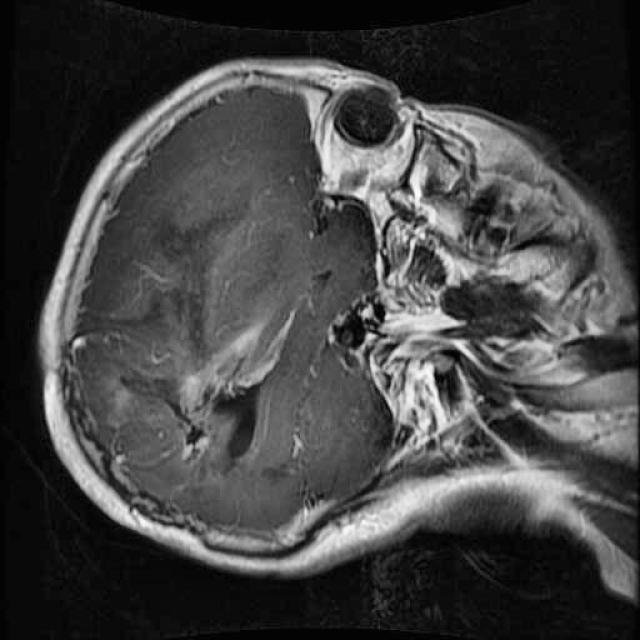Tumor: (108, 287, 310, 492)
